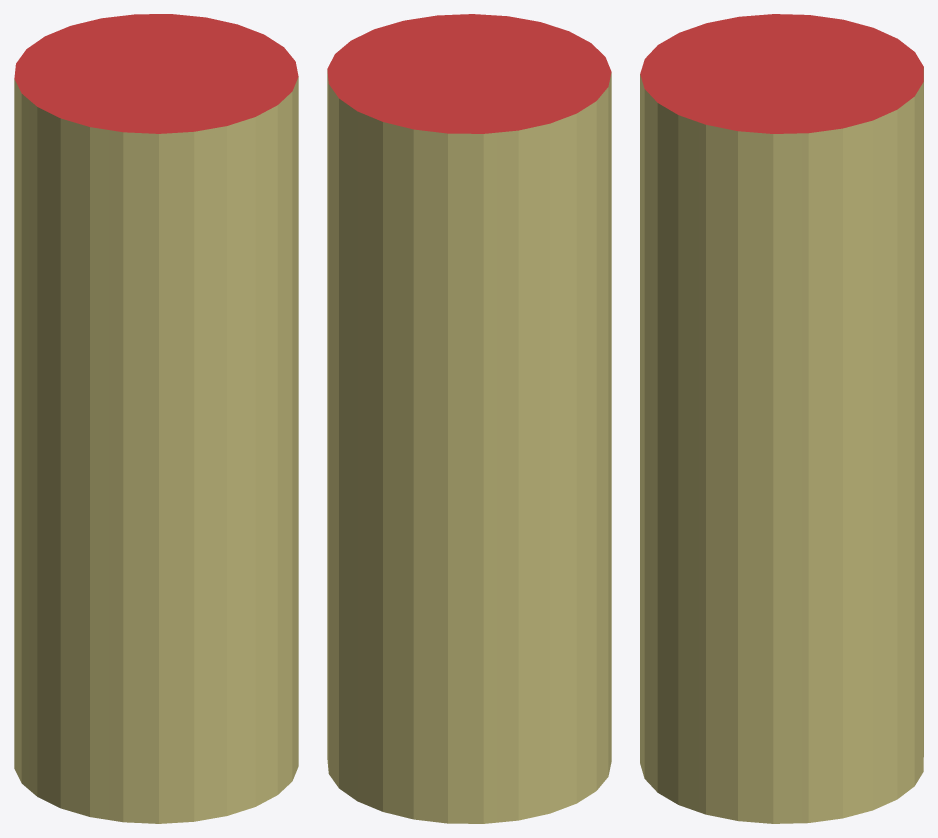
3 renders of one model, left to right at view 1: azimuth 30°, elevation 25°; view 2: azimuth 150°, elevation 25°; view 3: azimuth 270°, elevation 25°, orthographic.
Bounding box in the file's own units: 3.39 × 3.38 × 9.08.
